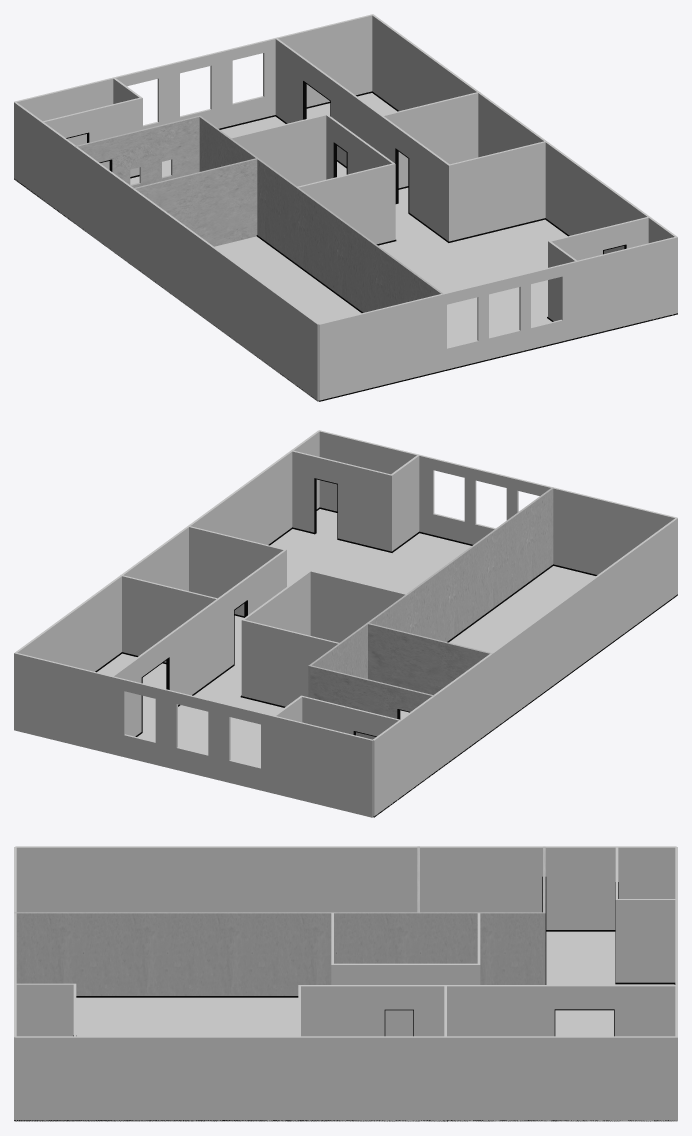
The model's file is Mapa Novo.fbx.
3 renders of one model, top to bottom at view 1: azimuth 30°, elevation 25°; view 2: azimuth 150°, elevation 25°; view 3: azimuth 270°, elevation 25°, orthographic. The views are drawn at different scales.
Parts seen in each view (by area): view 1: Wall_2, Wall_3, Wall_5, Wall_7, Floor, Wall_4, Wall_1, Wall_6, Wall_10, Wall_9, Wall_8, Wall_1.001; view 2: Wall_4, Wall_2, Floor, Wall_5, Wall_7, Wall_3, Wall_1, Wall_6, Wall_9, Wall_10, Wall_8, Wall_1.001; view 3: Wall_1, Wall_2, Wall_7, Wall_5, Floor, Wall_8, Wall_6, Wall_9, Wall_1.001, Wall_3, Wall_4.
Boxes of the visible parts, x1,y1,x2,y2 form: Wall_2: [14, 102, 319, 401]; Wall_3: [318, 237, 677, 400]; Wall_5: [275, 38, 546, 241]; Wall_7: [75, 115, 442, 312]; Floor: [130, 93, 567, 347]; Wall_4: [14, 14, 373, 145]; Wall_1: [372, 15, 677, 253]; Wall_6: [230, 114, 395, 244]; Wall_10: [132, 158, 258, 246]; Wall_9: [548, 217, 648, 321]; Wall_8: [41, 77, 142, 176]; Wall_1.001: [14, 81, 677, 401]; Wall_4: [14, 652, 373, 817]; Wall_2: [373, 518, 677, 816]; Floor: [97, 509, 595, 767]; Wall_5: [112, 526, 286, 736]; Wall_7: [308, 487, 553, 739]; Wall_3: [319, 430, 677, 574]; Wall_1: [15, 430, 319, 671]; Wall_6: [241, 570, 407, 706]; Wall_9: [292, 450, 419, 551]; Wall_10: [368, 623, 492, 694]; Wall_8: [273, 695, 401, 736]; Wall_1.001: [95, 478, 677, 817]; Wall_1: [15, 1036, 676, 1121]; Wall_2: [15, 846, 676, 929]; Wall_7: [14, 846, 545, 995]; Wall_5: [298, 985, 675, 1121]; Floor: [15, 931, 676, 1121]; Wall_8: [615, 846, 677, 982]; Wall_6: [331, 913, 480, 1036]; Wall_9: [16, 983, 76, 1036]; Wall_1.001: [14, 876, 675, 1121]; Wall_3: [14, 847, 16, 1121]; Wall_4: [675, 847, 677, 1121].
Bounding box in the file's own units: 6844 × 1417 × 10040.
